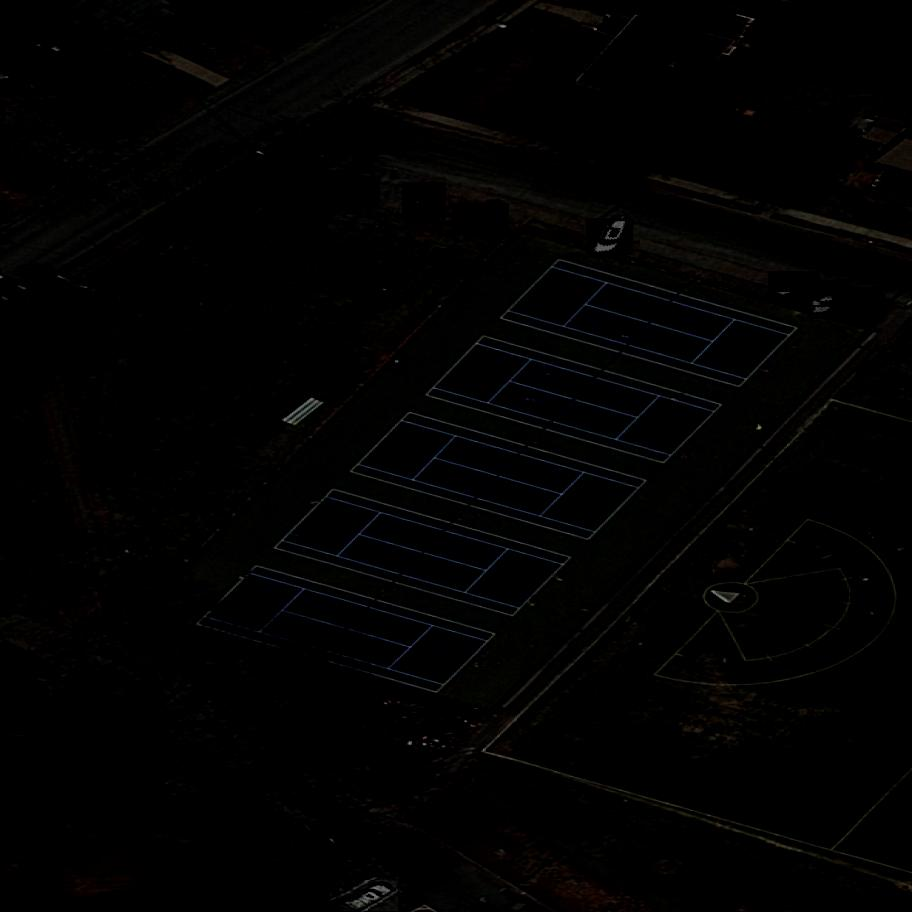small-vehicle: (313, 814, 365, 869), (587, 208, 635, 266), (768, 264, 822, 314), (836, 278, 886, 331), (320, 172, 381, 215), (453, 198, 510, 241), (808, 271, 852, 326), (403, 172, 446, 228)
